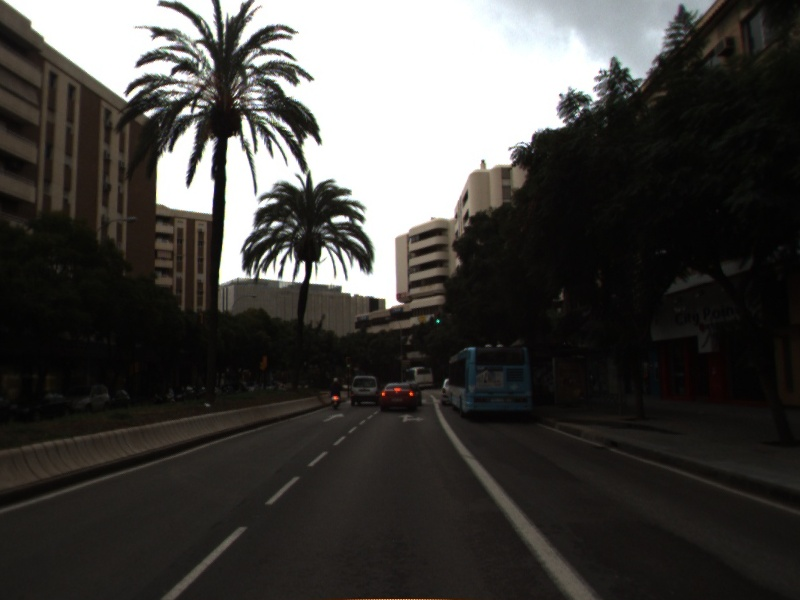STRAIGHT: (320, 411, 347, 424)
STRAIGHT_RIGHT: (395, 411, 426, 424)
